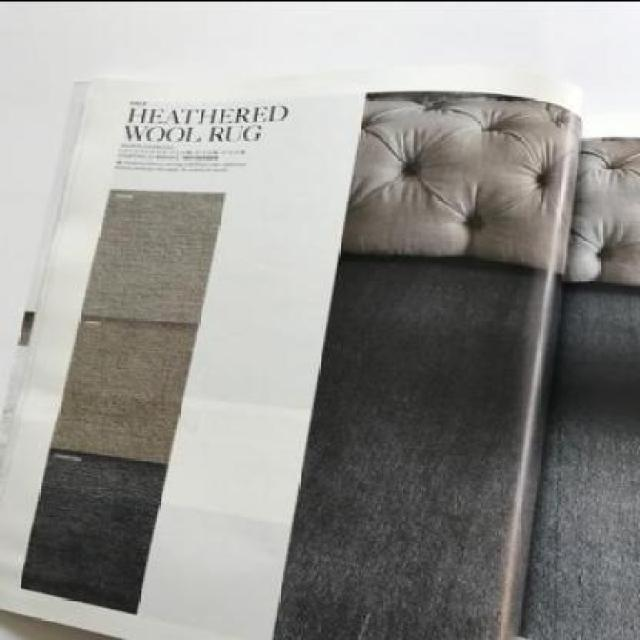PAPER: (1, 64, 638, 638)
